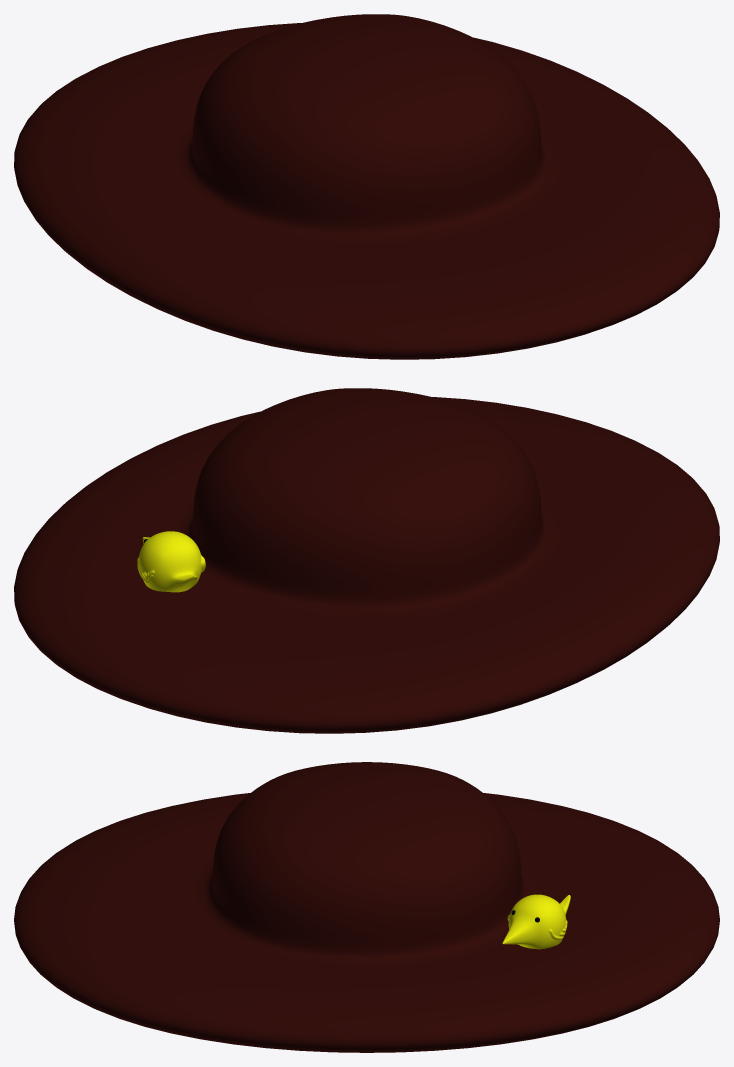
3 renders of one model, top to bottom at view 1: azimuth 30°, elevation 25°; view 2: azimuth 150°, elevation 25°; view 3: azimuth 270°, elevation 25°, orthographic. The views are drawn at different scales.
Visible parts, largest first — view 1: Cube; view 2: Cube, Cube.001; view 3: Cube, Cube.001.
Part boxes in pixels (x1=…): Cube: x1=14, y1=14, x2=719, y2=359; Cube: x1=14, y1=388, x2=719, y2=733; Cube.001: x1=137, y1=531, x2=205, y2=592; Cube: x1=14, y1=762, x2=719, y2=1052; Cube.001: x1=502, y1=894, x2=570, y2=949.
Bounding box in the file's own units: 894 × 261 × 1061.
